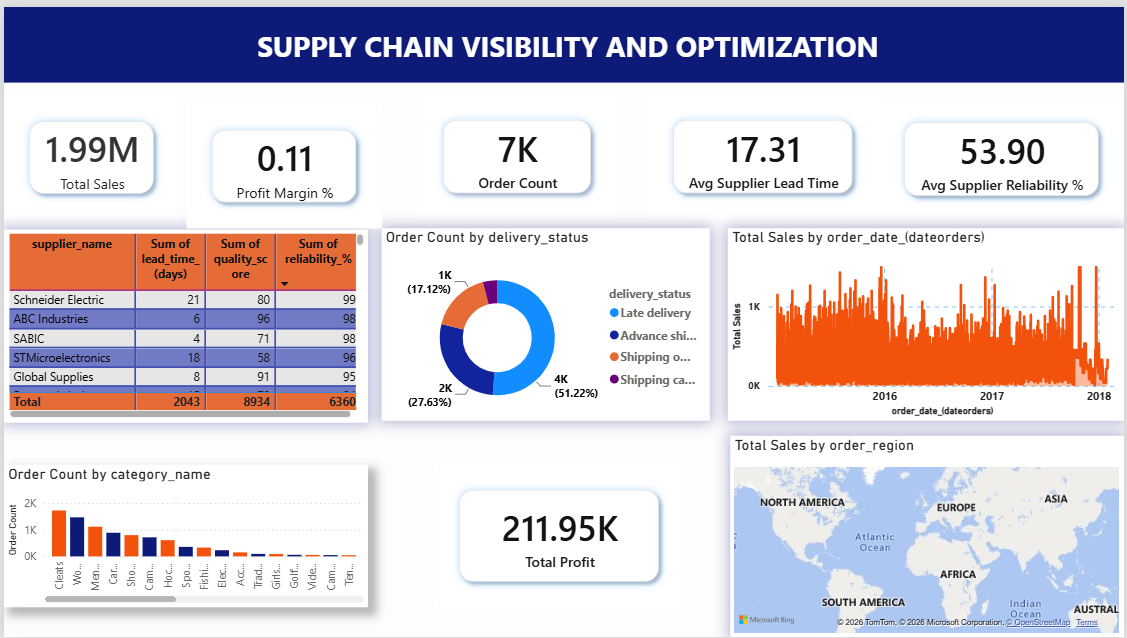

The page's visual inventory and layout, read from the dashboard file:
{"tool":"powerbi","page":{"name":"Page 1","canvas":[1280,720],"ordinal":0},"visuals":[{"type":"cardVisual","fields":{"Data":["Fact_table.Total Sales"]},"box":[0,101.7,200,141.7],"z":0},{"type":"cardVisual","fields":{"Data":["Fact_table.Total Profit"]},"box":[491.7,523.3,286.7,163.3],"z":1000},{"type":"cardVisual","fields":{"Data":["Fact_table.Order Count"]},"box":[472.6,99.5,227.2,142.6],"z":2000},{"type":"cardVisual","fields":{"Data":["Fact_table.Avg Supplier Lead Time"]},"box":[736.2,99.5,263.6,142.6],"z":3000},{"type":"cardVisual","fields":{"Data":["Fact_table.Avg Supplier Reliability %"]},"box":[999.8,102.8,280.2,142.6],"z":4000},{"type":"filledMap","fields":{"Category":["Fact_table.order_region Hierarchy.order_region","Fact_table.order_region Hierarchy.order_country","Fact_table.order_region Hierarchy.order_state","Fact_table.order_region Hierarchy.order_city"]},"box":[830,490,450,230],"z":5000},{"type":"lineChart","fields":{"Category":["Fact_table.order_date_(dateorders)"],"Y":["Fact_table.Total Sales"]},"box":[826.7,253.3,453.3,220],"z":6000},{"type":"donutChart","fields":{"Category":["Dim_Shipping.delivery_status"],"Y":["Fact_table.Order Count"]},"box":[431.7,253.3,375,220],"z":7000},{"type":"tableEx","fields":{"Values":["Dim_supplier.supplier_name","Sum(Dim_supplier.lead_time_(days))","Sum(Dim_supplier.quality_score)","Sum(Dim_supplier.reliability_%)"]},"box":[0,253.7,416.2,220.5],"z":8000},{"type":"textbox","box":[0,0,1280,86.7],"z":9000},{"type":"cardVisual","fields":{"Data":["Fact_table.Profit Margin %"]},"box":[208.9,111.1,223.3,141.7],"z":10000},{"type":"clusteredColumnChart","fields":{"Y":["Fact_table.Order Count"],"Category":["Fact_table.category_name"]},"box":[0,523,416,163],"z":11000}]}

Visuals, with their boxes in screenshot pixels (x1, y1, x2, y2), scaled from the page's 1280x720 canvas onto the 1127x638 screenshot:
cardVisual - Fact_table.Total Sales: bbox(0, 90, 176, 216)
cardVisual - Fact_table.Total Profit: bbox(433, 464, 685, 608)
cardVisual - Fact_table.Order Count: bbox(416, 88, 616, 215)
cardVisual - Fact_table.Avg Supplier Lead Time: bbox(648, 88, 880, 215)
cardVisual - Fact_table.Avg Supplier Reliability %: bbox(880, 91, 1126, 217)
filledMap - Fact_table.order_region Hierarchy.order_region x Fact_table.order_region Hierarchy.order_country: bbox(731, 434, 1126, 637)
lineChart - Fact_table.order_date_(dateorders) x Fact_table.Total Sales: bbox(728, 224, 1126, 419)
donutChart - Dim_Shipping.delivery_status x Fact_table.Order Count: bbox(380, 224, 710, 419)
tableEx - Dim_supplier.supplier_name x Sum(Dim_supplier.lead_time_(days)): bbox(0, 225, 366, 420)
textbox: bbox(0, 0, 1126, 77)
cardVisual - Fact_table.Profit Margin %: bbox(184, 98, 381, 224)
clusteredColumnChart - Fact_table.Order Count x Fact_table.category_name: bbox(0, 463, 366, 608)
